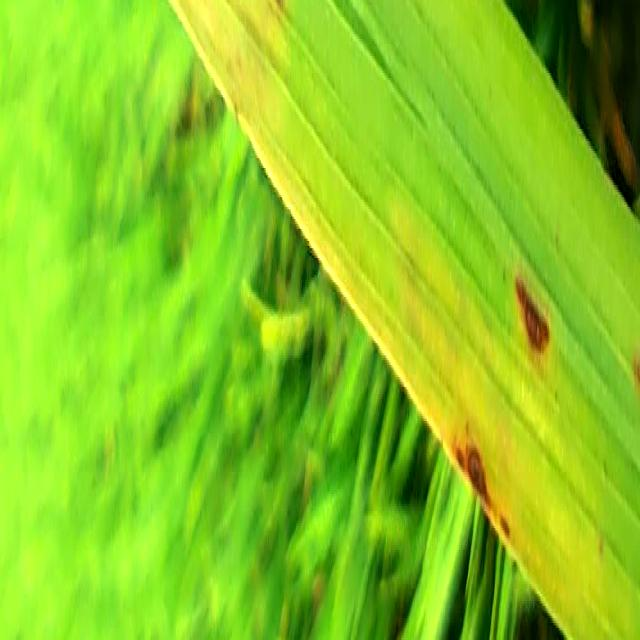LEAF BLAST: (516, 280, 549, 350), (465, 441, 491, 507)
